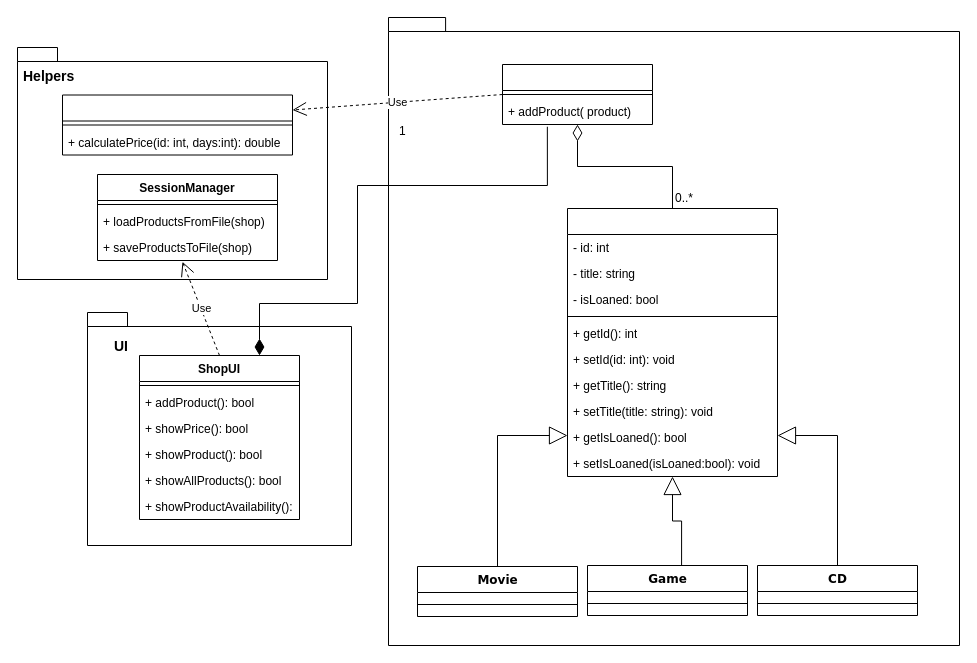
This 977x663 diagram has some shape labels left out. Here are the shapes that lost their labels. From the top down, the box of each, then its label:
(502, 64, 652, 124): Shop
(62, 94, 292, 155): RentManager
(566, 208, 778, 476): Product
